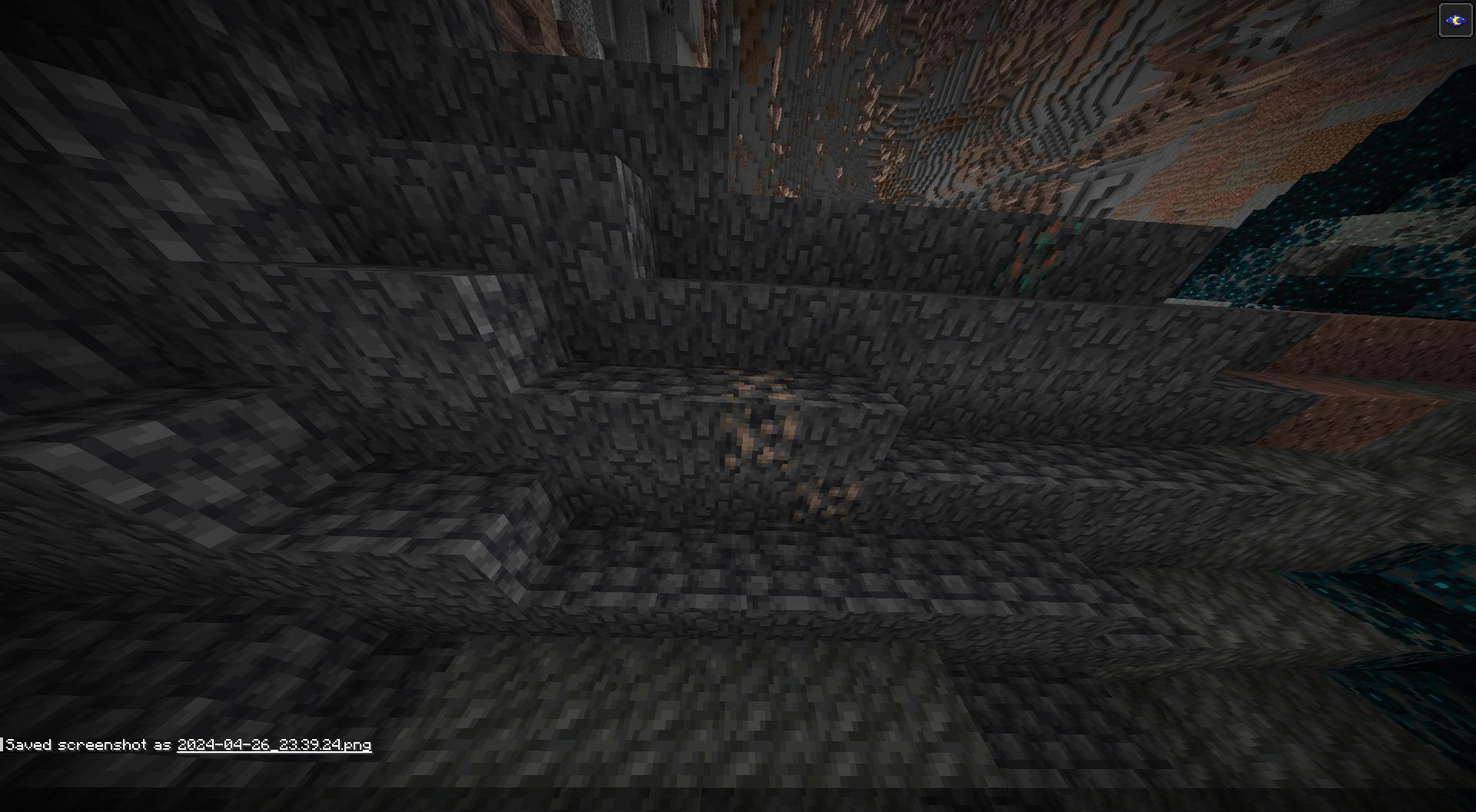iron ore: (719, 406, 801, 470), (719, 368, 798, 406), (796, 477, 856, 527)
